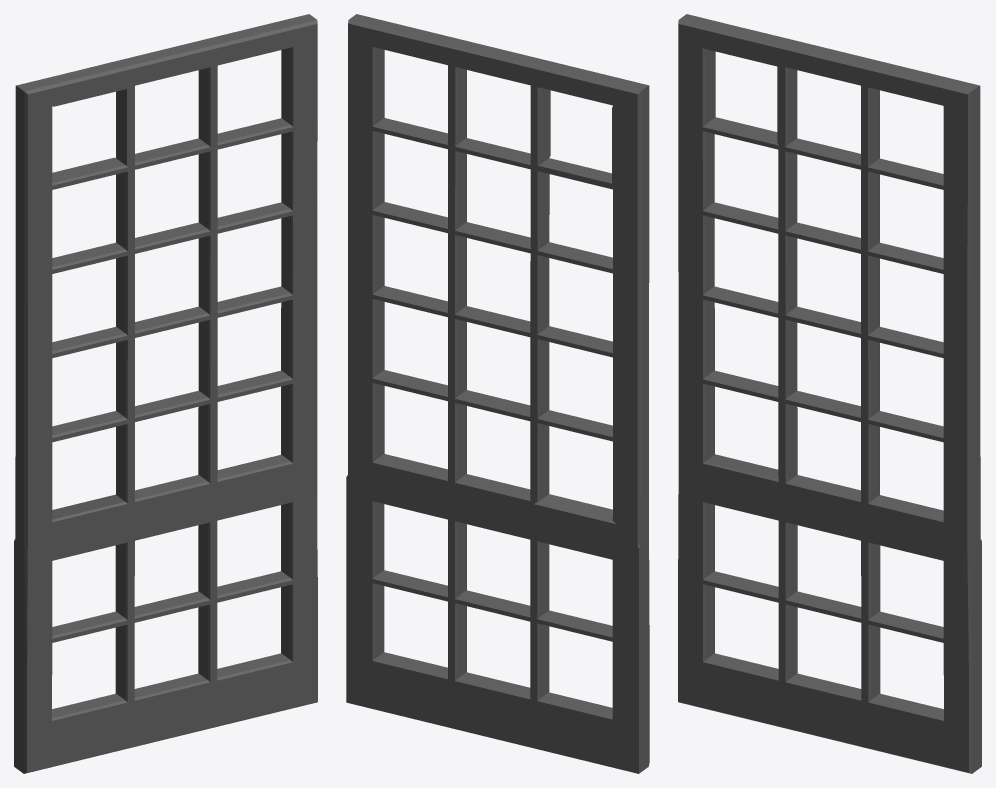
File: Doorway_5_doorway_door_5_2.obj
3 renders of one model, left to right at view 1: azimuth 30°, elevation 25°; view 2: azimuth 150°, elevation 25°; view 3: azimuth 330°, elevation 25°, orthographic.
Size of the model in its own units: 0.9141 by 2.03 by 0.0661.
